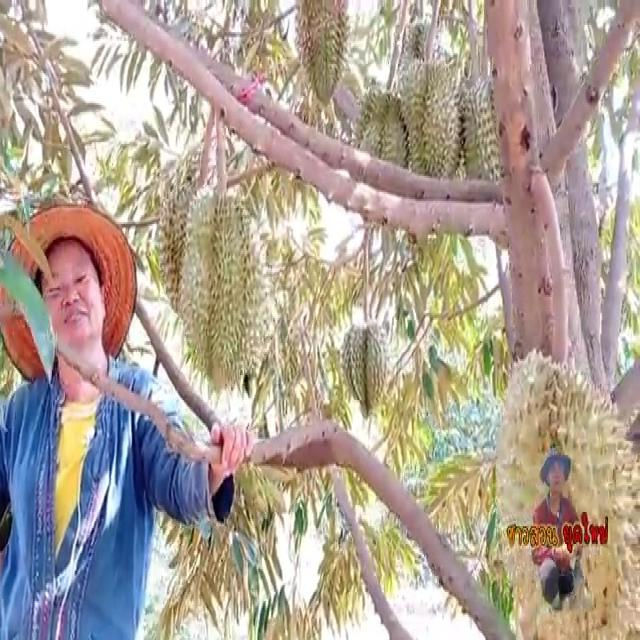durian: (488, 343, 638, 637), (177, 184, 278, 385), (396, 50, 466, 199), (157, 169, 225, 322), (353, 82, 413, 203), (462, 70, 520, 194), (292, 0, 352, 117), (336, 316, 395, 415)
